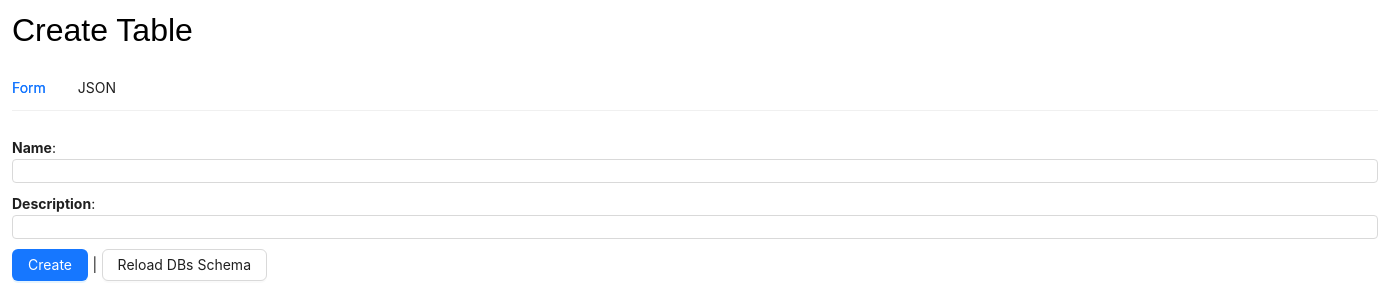
Test: CreateTableForm › creates the table schema within the given database
In the field below "Name": coordinates (695, 171) [12,159,1378,183], type "posts"
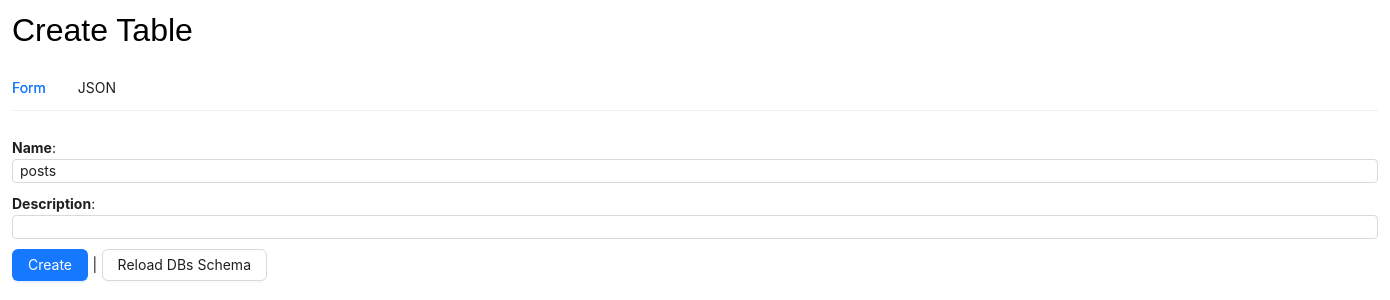
Click the button "Create": coordinates (50, 265) [12,249,88,281]
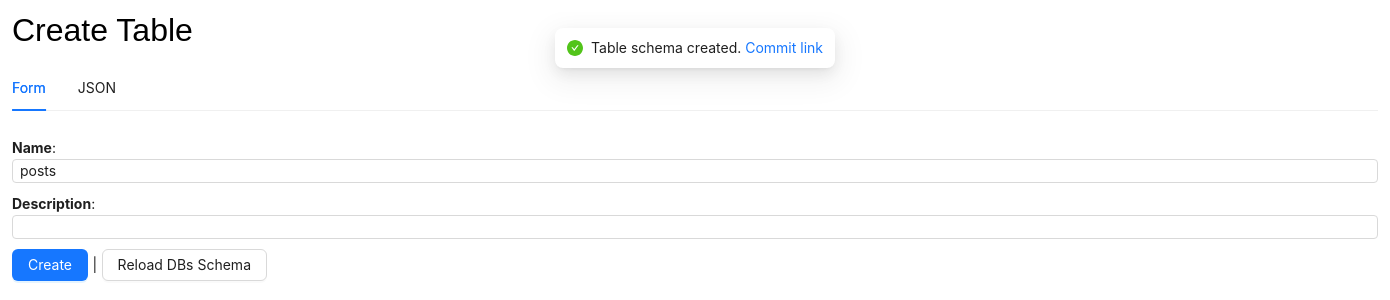
Check: the text "Table schema created." is shown, box [591,39,741,56]
